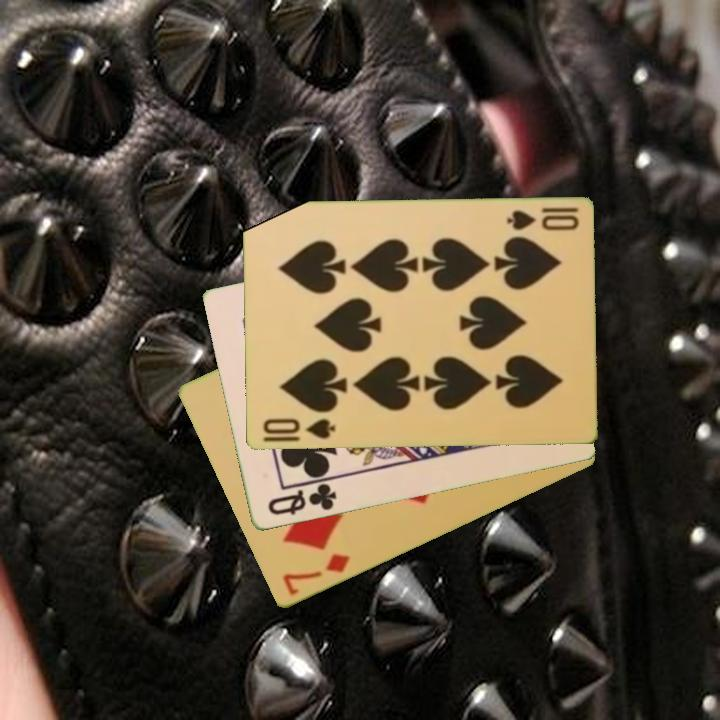10s: (503, 204, 581, 234), (259, 415, 338, 442)
7d: (279, 550, 353, 599)
Qc: (264, 480, 340, 519)
